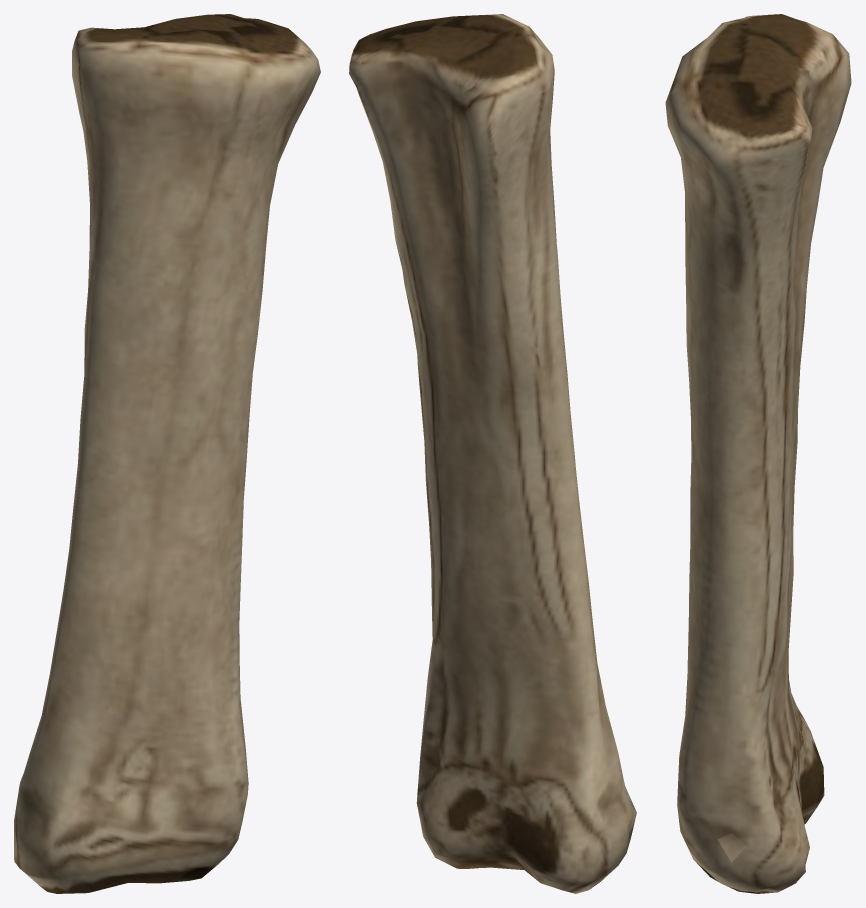
File: Cannon.glb
The picture shows the model from 3 angles, left to right: view 1: azimuth 30°, elevation 25°; view 2: azimuth 150°, elevation 25°; view 3: azimuth 270°, elevation 25°; orthographic projection. The views are drawn at different scales.
Visible parts, largest first — view 1: R_Frt_Cannon; view 2: R_Frt_Cannon; view 3: R_Frt_Cannon.
Boxes of the visible parts, box(x1,y1,x2,y2) form: R_Frt_Cannon: box(14, 14, 320, 893); R_Frt_Cannon: box(349, 14, 636, 893); R_Frt_Cannon: box(665, 14, 851, 893).
Size of the model in its own units: 0.0829 by 0.2462 by 0.049.
Materials: 1 (1 with a texture image).
